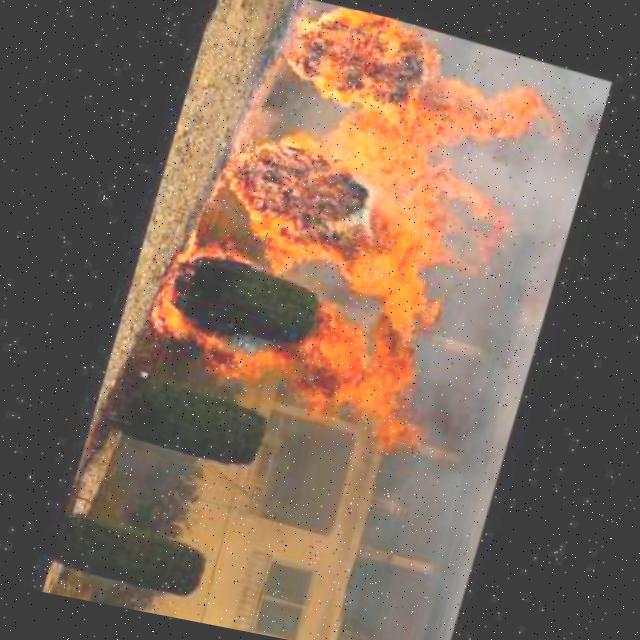fire: (146, 0, 565, 461)
